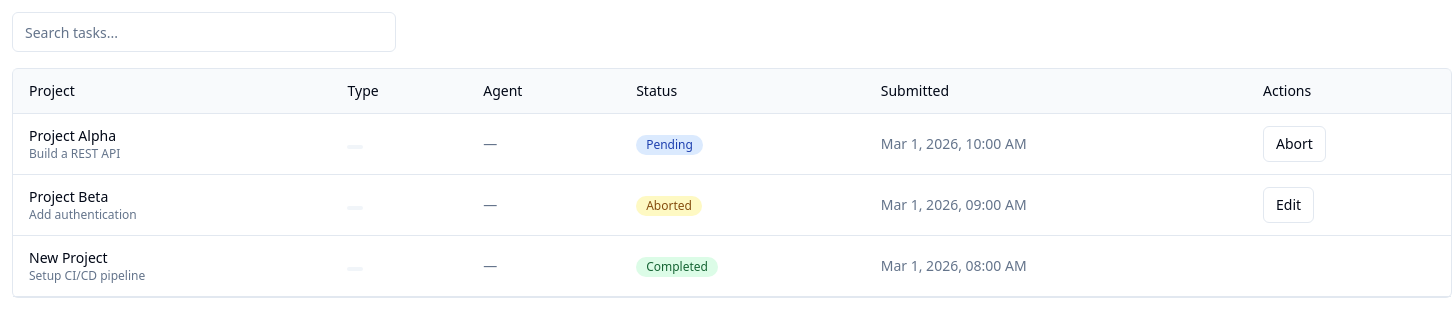
Test: TaskTable › filters rows by project name when search is used
Type "Beta" into the field with placeholder "Search tasks..." at (204, 32), box [12,12,396,52]
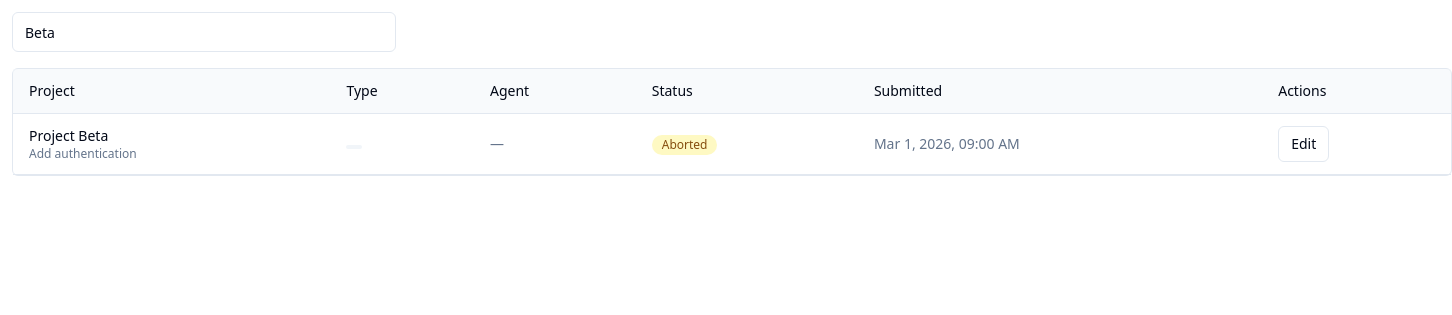
Expected: the text "Add authentication" is shown, [29,145,137,162]
Expected: the link "Build a REST API" is gone
